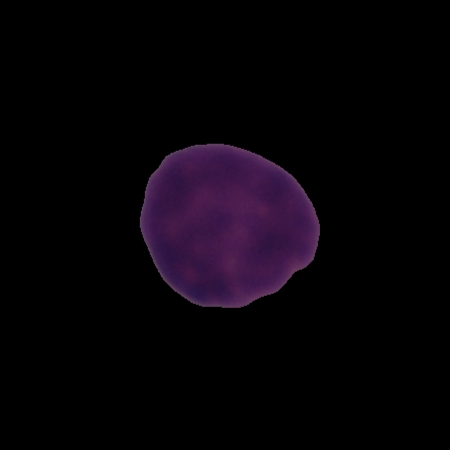HEM: (135, 139, 323, 311)
